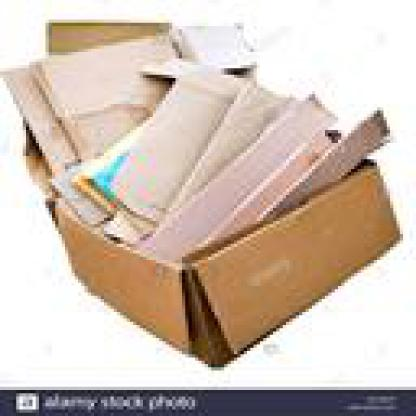CARDBOARD: (49, 146, 396, 368), (136, 91, 332, 267), (22, 20, 166, 178), (104, 68, 240, 221), (30, 29, 176, 159), (162, 68, 286, 218), (198, 124, 344, 250), (260, 113, 387, 230), (0, 35, 81, 188), (68, 114, 140, 211), (166, 20, 254, 72), (94, 208, 153, 244)
